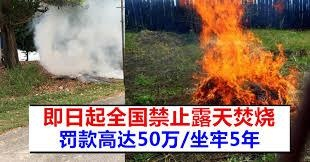fire: (186, 2, 302, 104)
